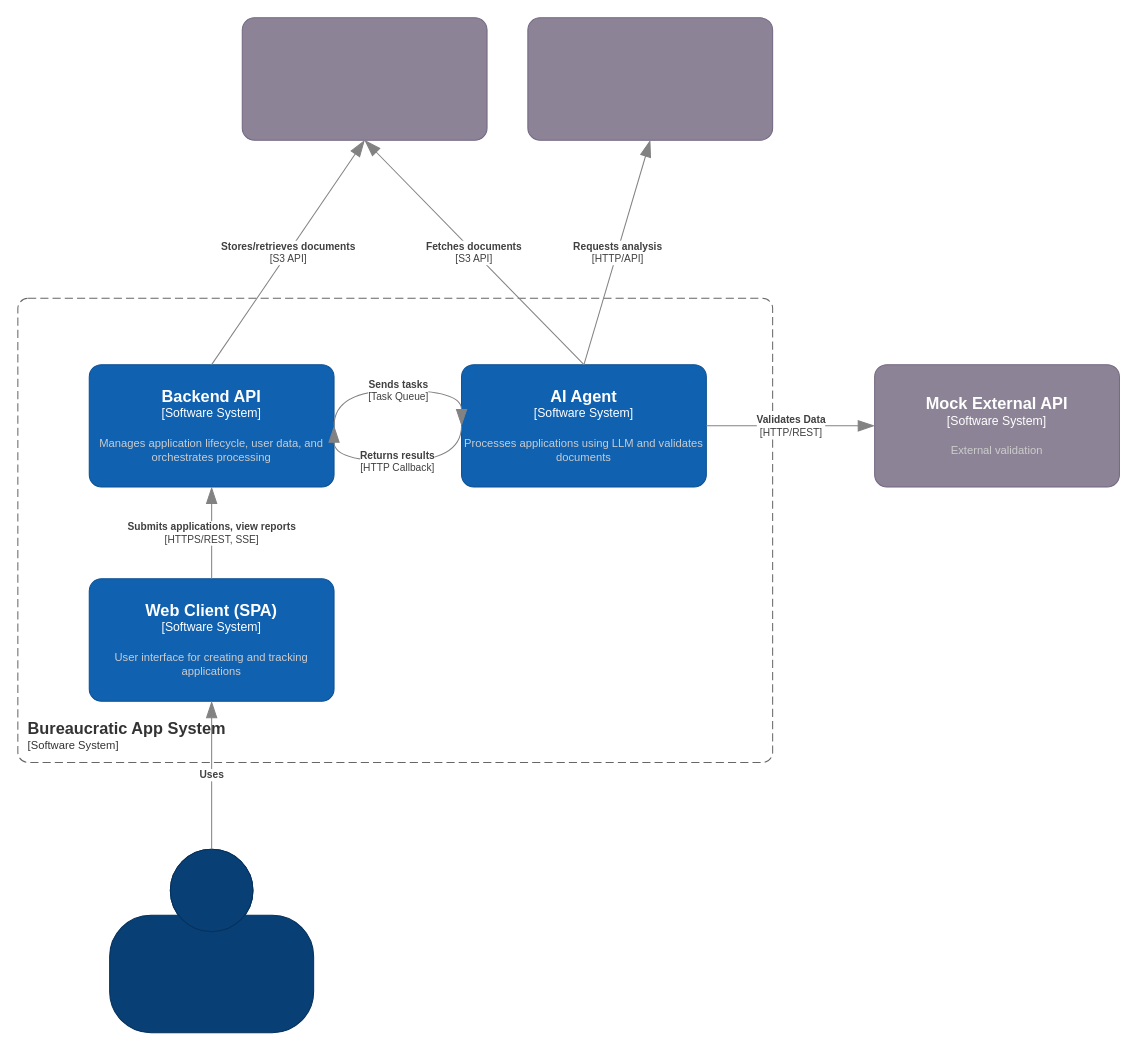
Image size: 1137x1051. Some labels were removed from this diagram. Here are the shapes that lost their labels. From the top down, the box of each, then its label:
(241, 17, 487, 140): Object Storage [Software System] S3/MinIO - stores user documents
(527, 17, 773, 140): LLM Provider [Software System] Open AI GPT 4
(109, 848, 314, 1033): User [Person] Regular citizen
